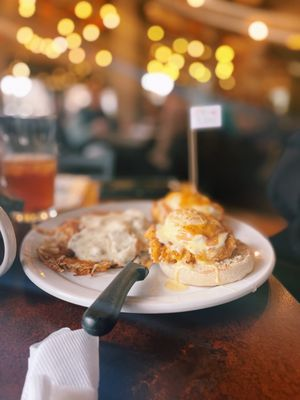pizza: (0, 64, 60, 224), (0, 116, 60, 224)
sandwich: (81, 250, 150, 337)
